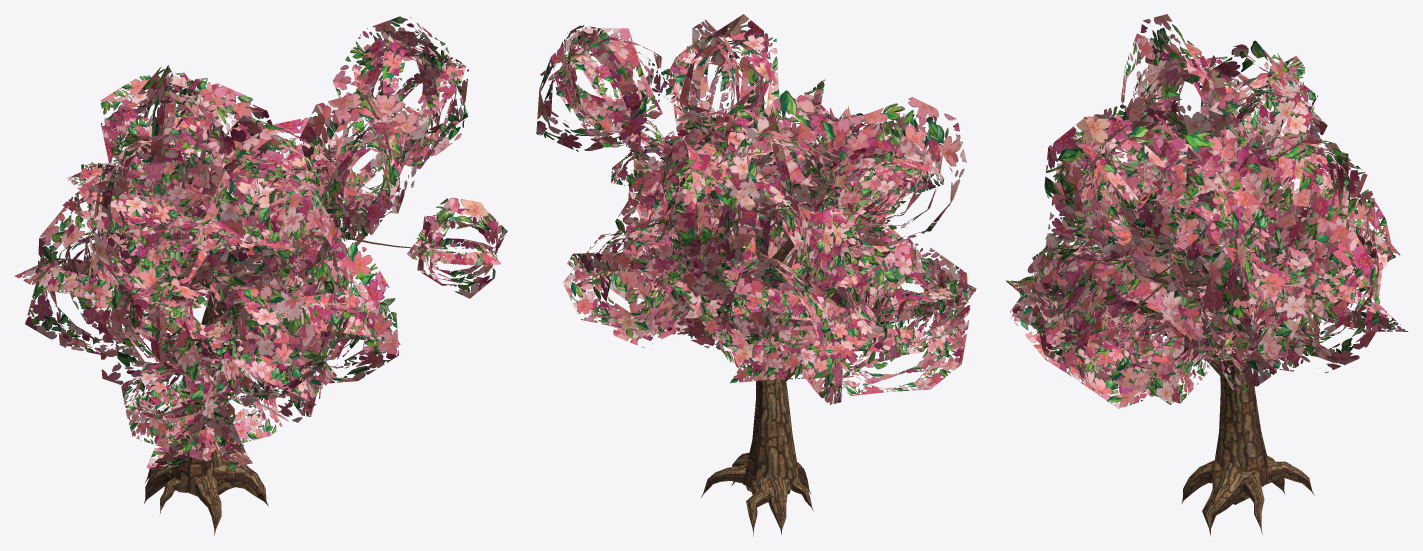
The model's file is tree_01.fbx.
3 renders of one model, left to right at view 1: azimuth 30°, elevation 25°; view 2: azimuth 150°, elevation 25°; view 3: azimuth 270°, elevation 25°, orthographic. The views are drawn at different scales.
Parts seen in each view (by area): view 1: SM_Tree_001_1; view 2: SM_Tree_001_1; view 3: SM_Tree_001_1.
Part boxes in pixels (bbox=[...]): SM_Tree_001_1: bbox=[14, 16, 507, 535]; SM_Tree_001_1: bbox=[536, 14, 976, 536]; SM_Tree_001_1: bbox=[1006, 14, 1408, 535].
Size of the model in its own units: 1240 by 1321 by 1051.
3 materials, 3 textured.
